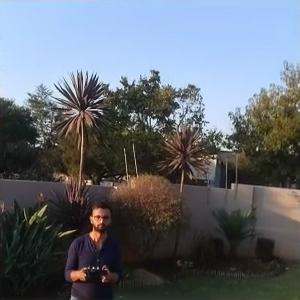follow: (61, 196, 122, 299)
